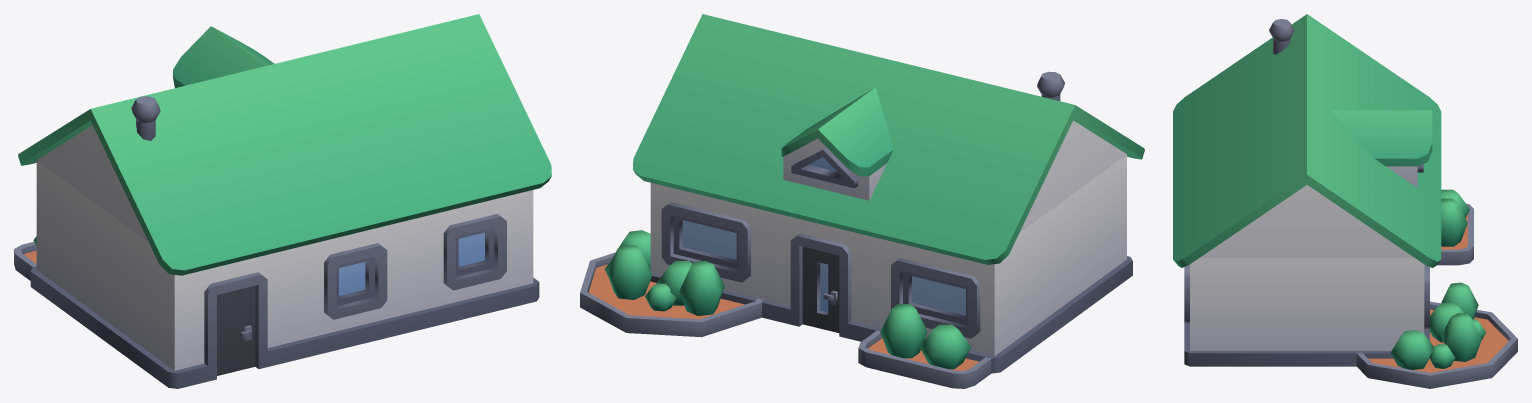
The model's file is house_6.fbx.
The picture shows the model from 3 angles, left to right: view 1: azimuth 30°, elevation 25°; view 2: azimuth 150°, elevation 25°; view 3: azimuth 270°, elevation 25°; orthographic projection. The views are drawn at different scales.
Parts seen in each view (by area): view 1: house_6; view 2: house_6; view 3: house_6.
Part boxes in pixels (left/top/right/bottom): house_6: left=14, top=14, right=551, bottom=388; house_6: left=580, top=14, right=1144, bottom=388; house_6: left=1173, top=14, right=1517, bottom=388.
Bounding box in the file's own units: 1.45 × 0.7682 × 1.18.
1 material, 1 textured.
